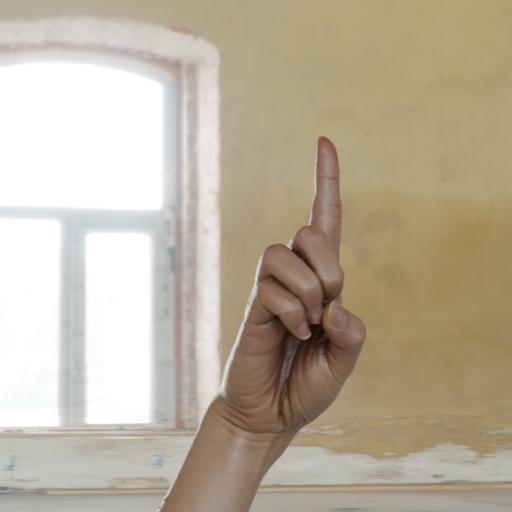D: (196, 84, 422, 434)
